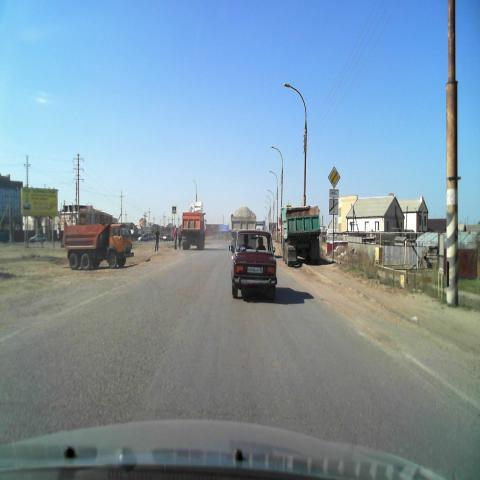2_2: (328, 166, 340, 189)
5_19_1: (171, 205, 177, 215)
8_13: (329, 198, 339, 216)
